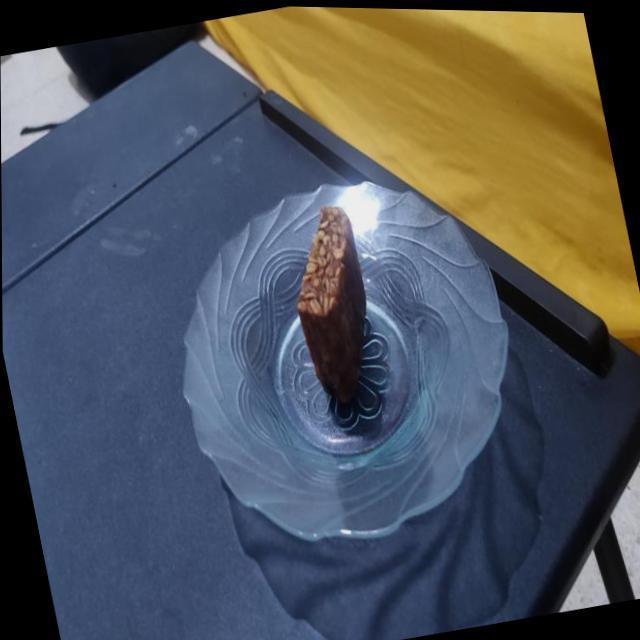tempe_goreng: (297, 206, 366, 402)
